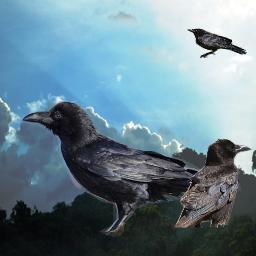Crow: (21, 101, 241, 237), (174, 138, 252, 228), (187, 28, 247, 58)
